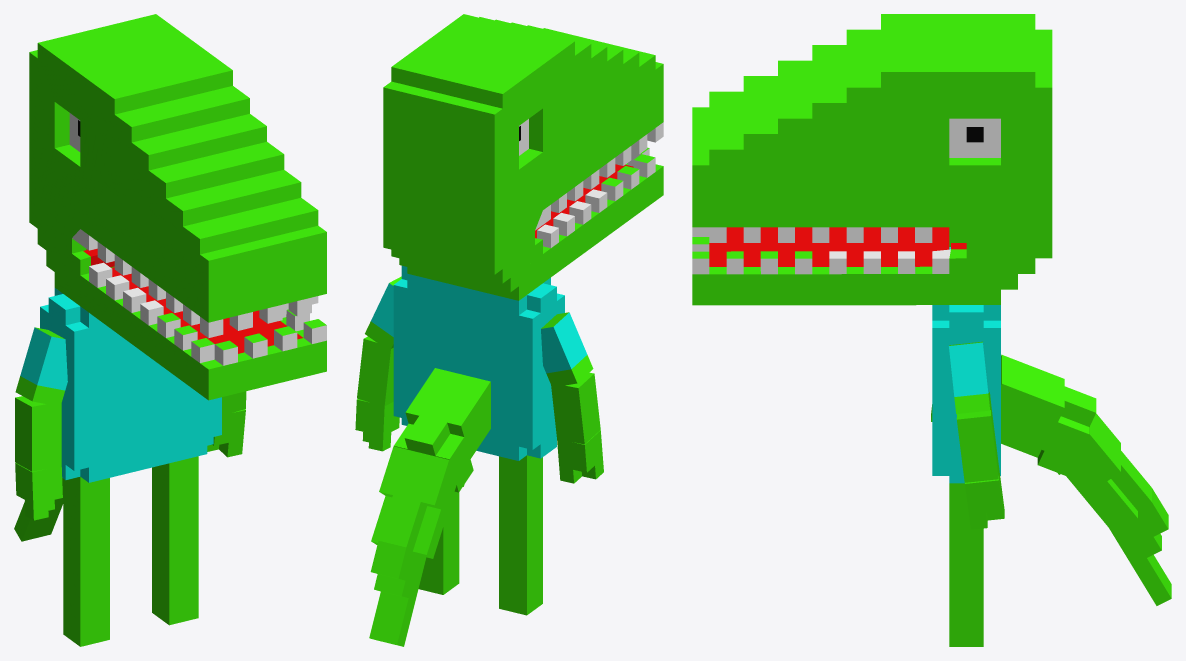
The model's file is DinosaurOriginal.FBX.
3 renders of one model, left to right at view 1: azimuth 30°, elevation 25°; view 2: azimuth 150°, elevation 25°; view 3: azimuth 270°, elevation 25°, orthographic. The views are drawn at different scales.
Visible parts, largest first — view 1: JawTop, JawBottom, BodyBottom, BodyMiddle, LeftLegBottom, RightLegBottom, BodyTop, RightLegTop, RightArmBottom, LeftLegTop, RightArmTop, RightArmHand (+4 smaller); view 2: JawTop, JawBottom, BodyMiddle, BodyTop, TailTop, TailBottom, JawMiddle, BodyBottom, TailTip, RightLegBottom, RightLegTop, RightArmTop (+6 smaller); view 3: JawTop, JawBottom, TailTop, TailBottom, JawMiddle, TailTip, LeftLegBottom, BodyTop, LeftArmBottom, LeftArmTop, BodyMiddle, BodyBottom (+2 smaller).
Part boxes in pixels (box(x1,y1,x2,y2)): JawTop: box(29, 14, 326, 338); JawBottom: box(54, 248, 326, 400); BodyBottom: box(61, 394, 221, 482); BodyMiddle: box(61, 347, 198, 424); LeftLegBottom: box(152, 520, 198, 625); RightLegBottom: box(63, 542, 109, 646); BodyTop: box(40, 288, 135, 362); RightLegTop: box(63, 476, 109, 553); RightArmBottom: box(15, 396, 61, 471); LeftLegTop: box(152, 456, 198, 532); RightArmTop: box(15, 327, 67, 403); RightArmHand: box(15, 463, 62, 520); JawTop: box(383, 14, 663, 250); JawBottom: box(407, 147, 663, 300); BodyMiddle: box(393, 314, 551, 406); BodyTop: box(393, 265, 564, 347); TailTop: box(394, 368, 490, 492); TailBottom: box(371, 446, 466, 558); JawMiddle: box(383, 218, 534, 291); BodyBottom: box(393, 372, 556, 460); TailTip: box(369, 541, 426, 646); RightLegBottom: box(499, 516, 542, 615); RightLegTop: box(499, 455, 542, 527); RightArmTop: box(541, 312, 593, 387); JawTop: box(692, 14, 1052, 258); JawBottom: box(692, 227, 1000, 305); TailTop: box(1001, 354, 1096, 476); TailBottom: box(1055, 413, 1151, 529); JawMiddle: box(966, 227, 1052, 289); TailTip: box(1109, 488, 1171, 605); LeftLegBottom: box(949, 553, 983, 646); BodyTop: box(932, 247, 1000, 358); LeftArmBottom: box(956, 404, 998, 482); LeftArmTop: box(949, 341, 990, 413); BodyMiddle: box(932, 359, 1000, 420); BodyBottom: box(932, 421, 1000, 483).
Bounding box in the file's own units: 15.48 × 37 × 27.97.
